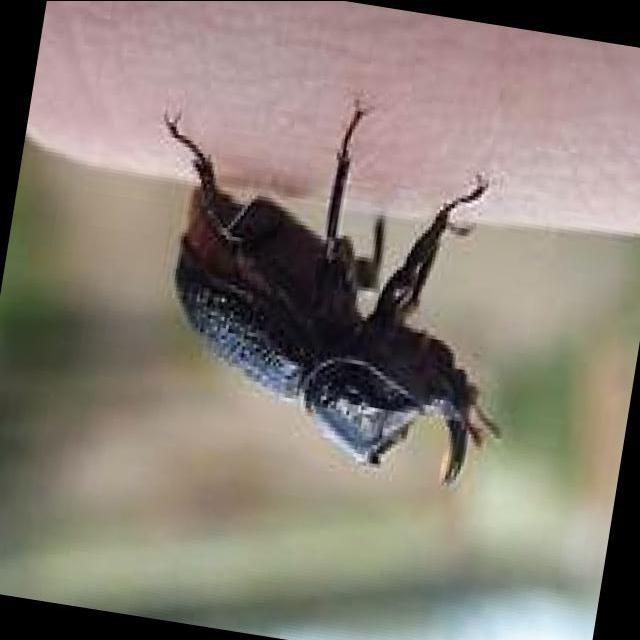Rhino-beetle: (144, 116, 492, 492)
